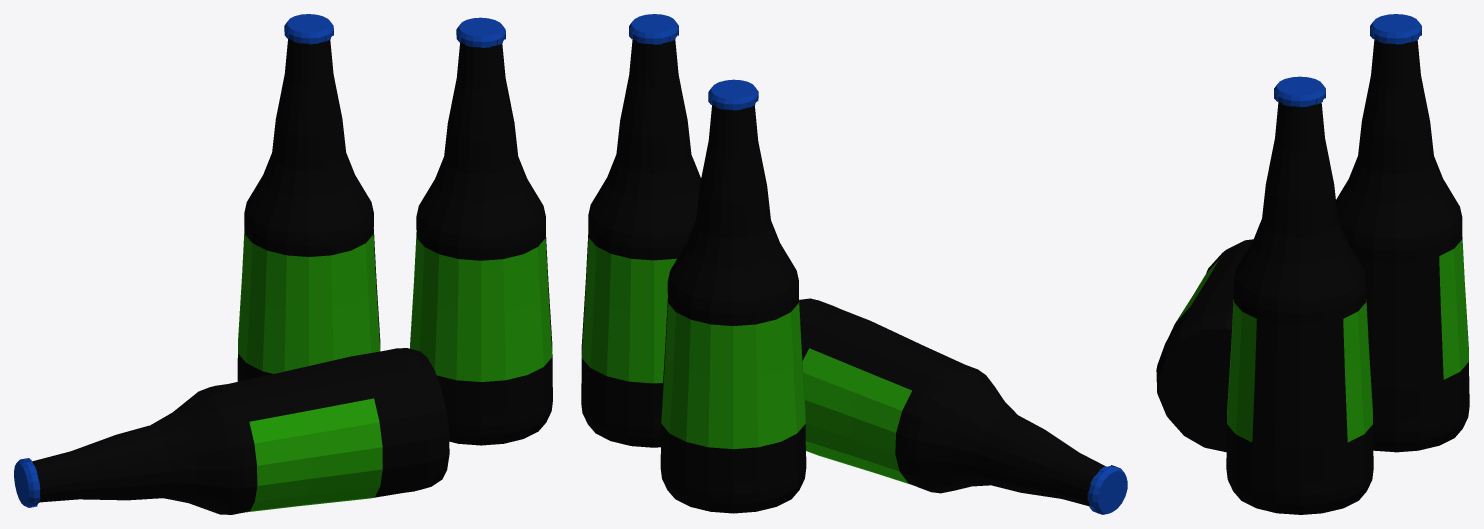
File: BeerGroup_SH.fbx
3 views of the same model, side by side, from view 1: azimuth 30°, elevation 25°; view 2: azimuth 150°, elevation 25°; view 3: azimuth 270°, elevation 25° (orthographic). The views are drawn at different scales.
Visible parts, largest first — view 1: BeerGroup_SH; view 2: BeerGroup_SH; view 3: BeerGroup_SH.
Boxes of the visible parts, x1,y1,x2,y2 form: BeerGroup_SH: (14, 14, 552, 514); BeerGroup_SH: (581, 14, 1127, 514); BeerGroup_SH: (1156, 14, 1469, 514).
Size of the model in its own units: 37.85 by 28.17 by 19.15.
